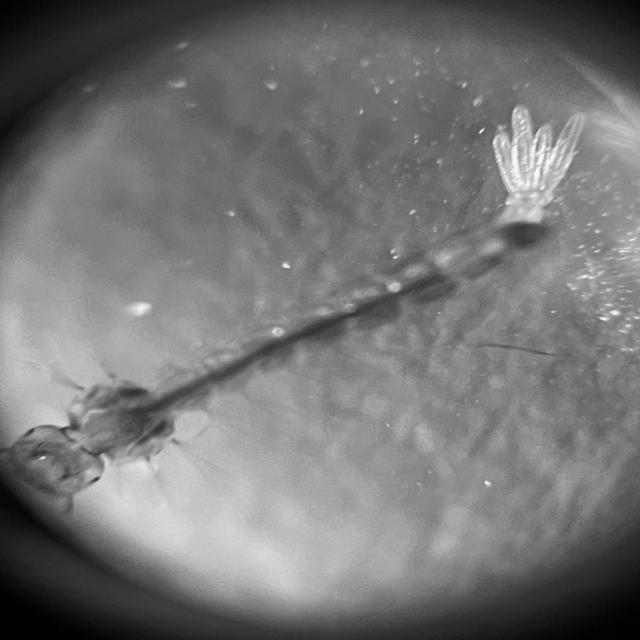larvas: (13, 113, 545, 497)
